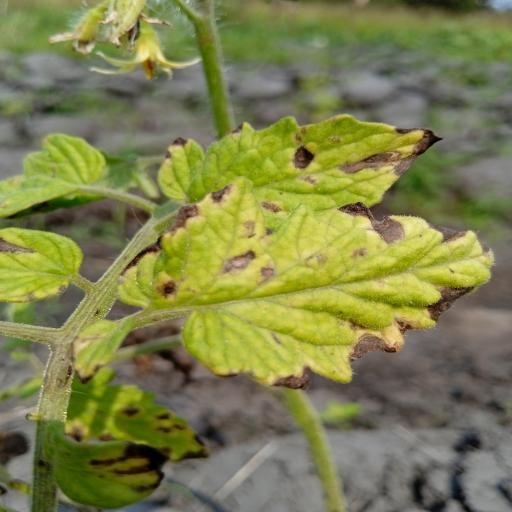Tomato_Brown_Spots: (104, 178, 501, 390), (158, 112, 446, 226)
